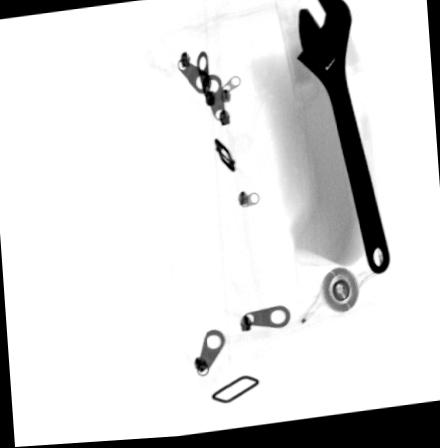Wrench: (293, 0, 390, 280)
